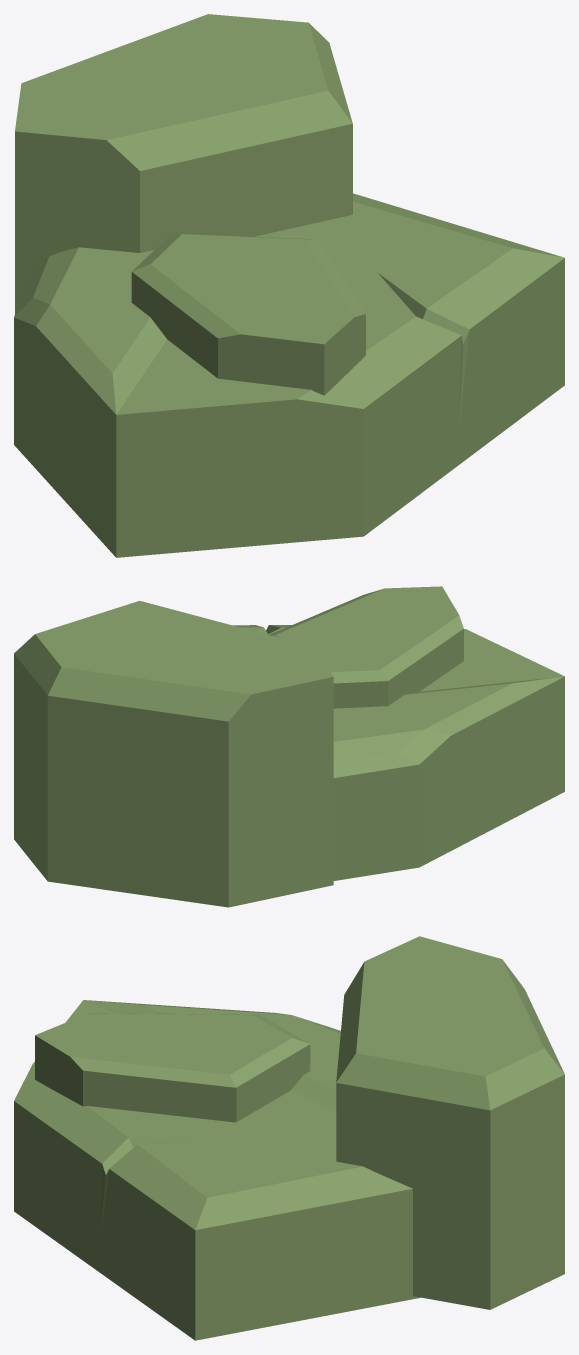
The model's file is brigesRock_Type1_03_mesh_001.fbx.
3 renders of one model, top to bottom at view 1: azimuth 30°, elevation 25°; view 2: azimuth 150°, elevation 25°; view 3: azimuth 270°, elevation 25°, orthographic. The views are drawn at different scales.
Visible parts, largest first — view 1: Rock Type1 03 mesh.001; view 2: Rock Type1 03 mesh.001; view 3: Rock Type1 03 mesh.001.
Boxes of the visible parts, bbox=[...] form: Rock Type1 03 mesh.001: bbox=[14, 14, 564, 557]; Rock Type1 03 mesh.001: bbox=[14, 586, 564, 907]; Rock Type1 03 mesh.001: bbox=[14, 936, 564, 1340].
Bounding box in the file's own units: 136 × 66.09 × 146.
